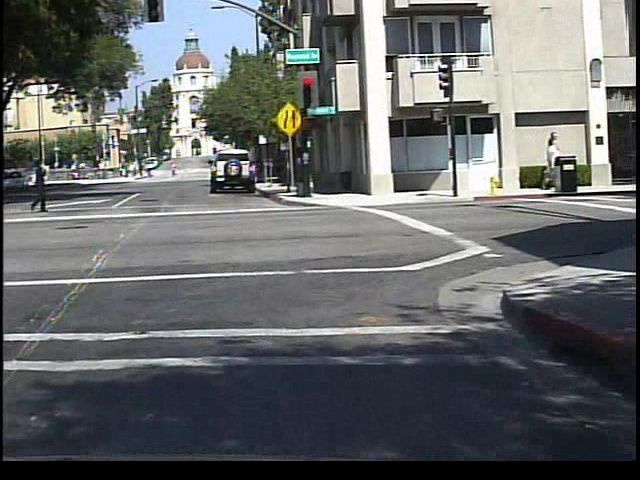person: (21, 157, 54, 216), (2, 168, 30, 229), (166, 160, 177, 180), (141, 163, 152, 180)
